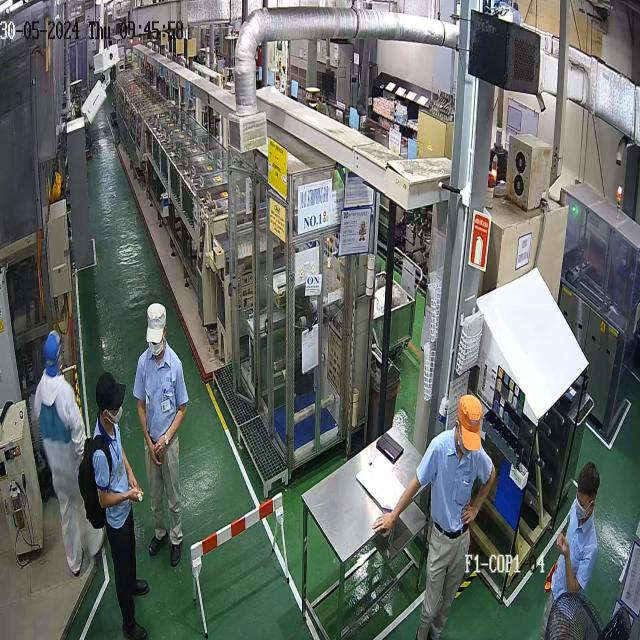Person: (371, 393, 496, 640), (33, 329, 106, 576), (92, 372, 150, 640), (132, 302, 189, 567), (539, 460, 600, 639)
